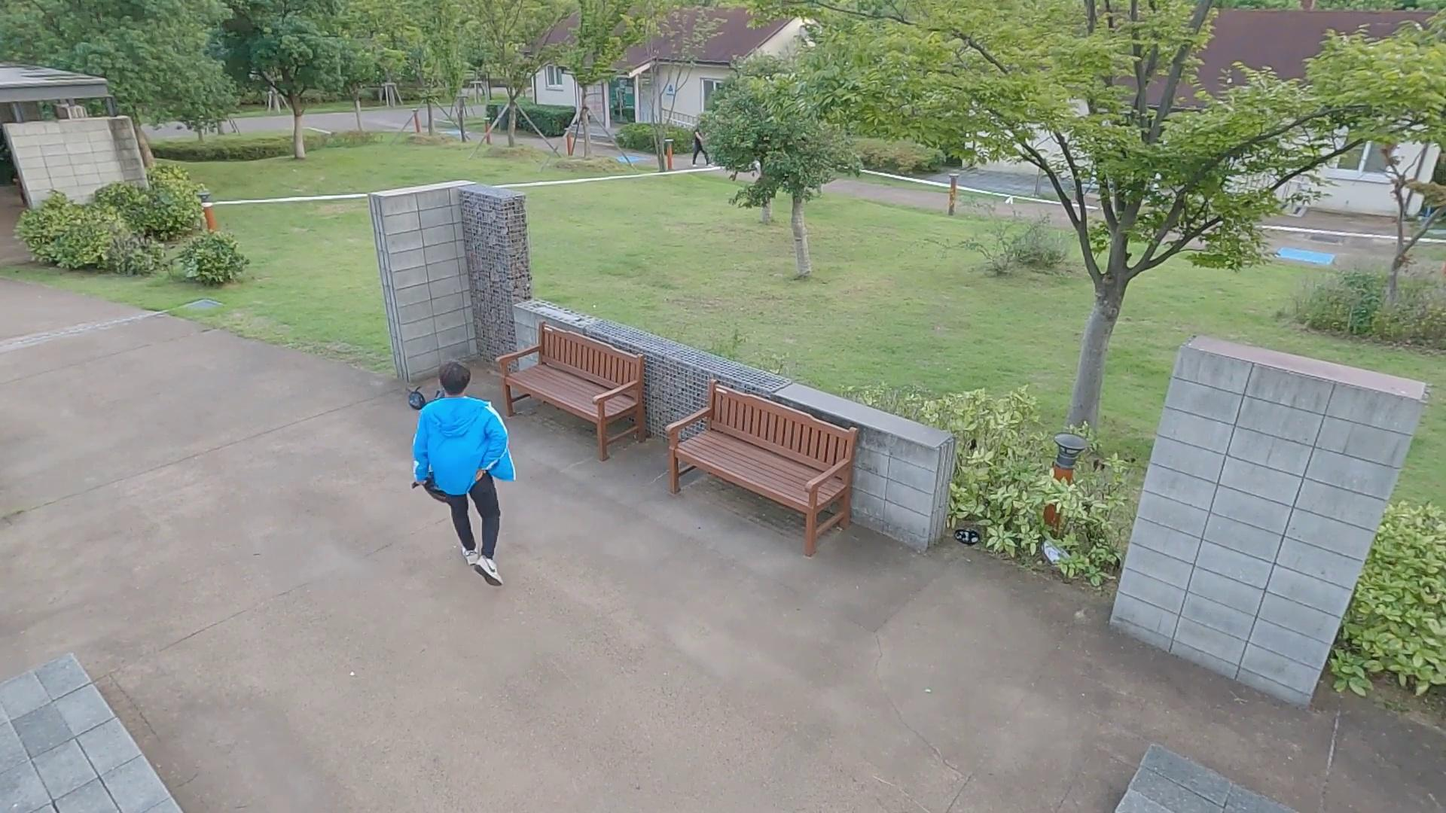person: (412, 358, 527, 585), (685, 121, 714, 168)
trash: (1043, 534, 1072, 567), (955, 521, 987, 549), (406, 382, 433, 410)
